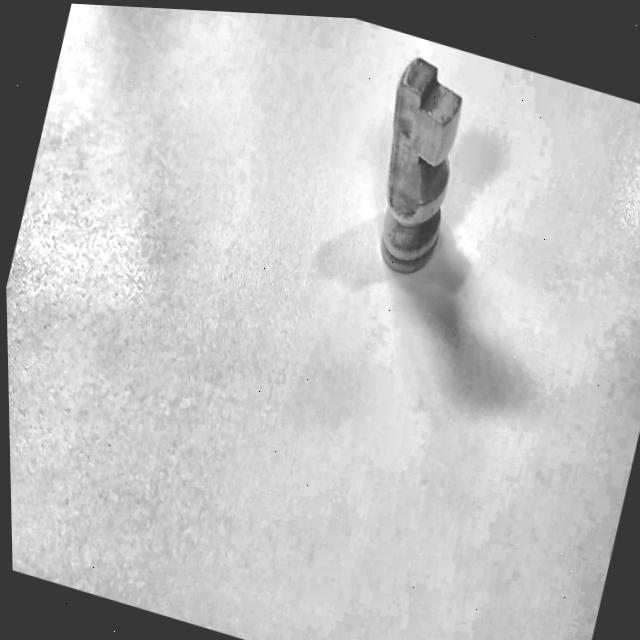black-knight: (339, 30, 499, 307)
